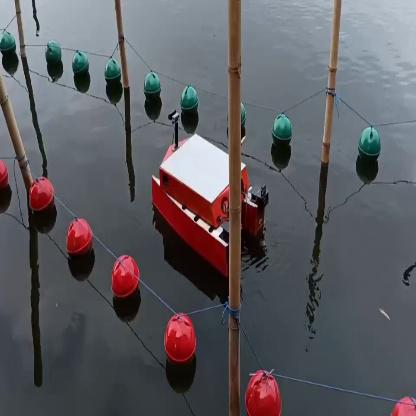green_buoy: (356, 126, 381, 168), (104, 56, 128, 92), (272, 112, 292, 150), (180, 86, 198, 118), (144, 74, 160, 110), (70, 52, 88, 84), (44, 41, 61, 65), (2, 30, 16, 58), (240, 108, 245, 130)
red_buoy: (163, 308, 201, 368), (245, 365, 284, 415), (62, 216, 100, 266), (107, 255, 142, 306), (29, 178, 54, 220), (392, 394, 415, 414), (0, 158, 10, 200)
